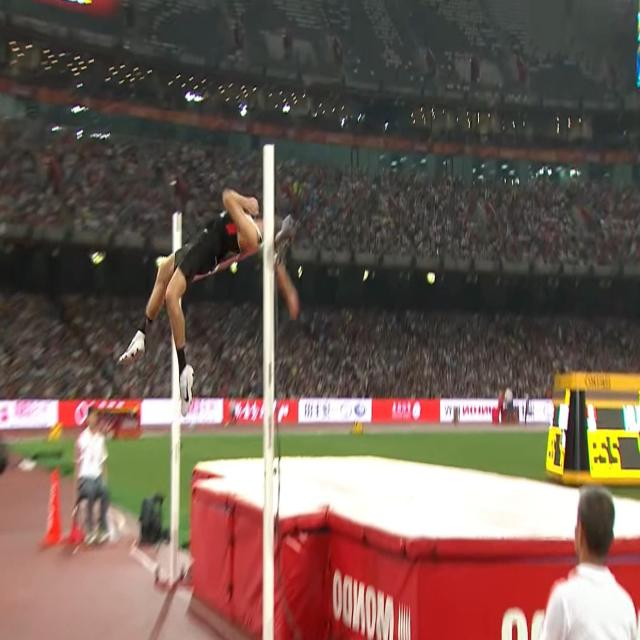jump: (118, 188, 300, 416)
